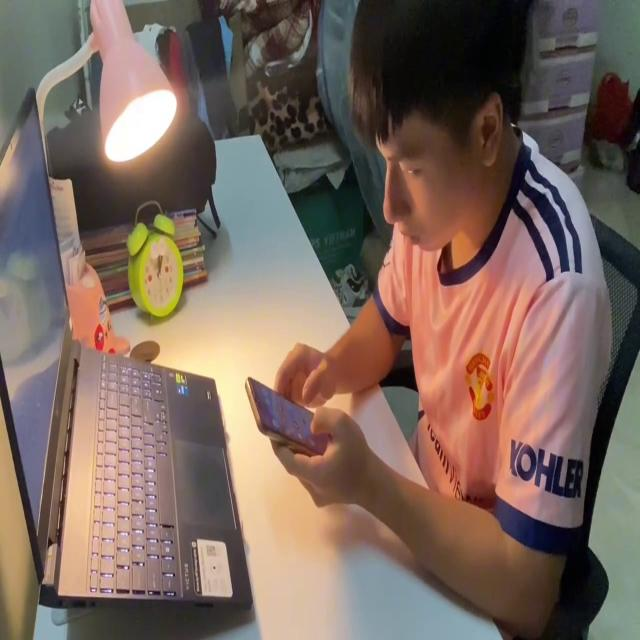laptop: (1, 83, 254, 616)
phone: (242, 370, 332, 457)
student: (269, 0, 609, 640)
